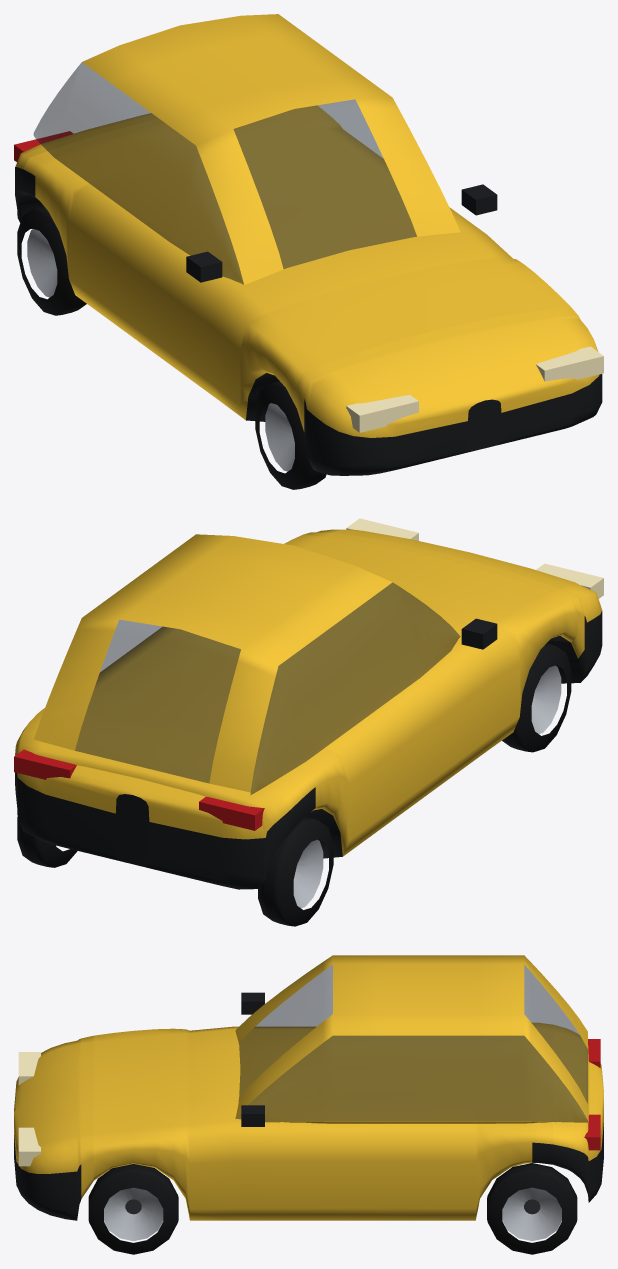
Rendered from mobile.glb.
3 views of the same model, one above another, from view 1: azimuth 30°, elevation 25°; view 2: azimuth 150°, elevation 25°; view 3: azimuth 270°, elevation 25° (orthographic). The views are drawn at different scales.
Visible parts, largest first — view 1: body, glass, tyre_rr, tyre_fr, light_head_r, light_head_l, rim_rr, rim_fr; view 2: body, glass, tyre_rr, tyre_fr, rim_fr, rim_rr, light_brake_r, tyre_rl, light_brake_l, light_head_r, light_head_l; view 3: body, glass, tyre_rl, tyre_fl, rim_fl, rim_rl, light_head_l, light_head_r, light_brake_l.
Boxes of the visible parts, left/top/right/bottom form: body: left=15, top=14, right=602, bottom=475; glass: left=33, top=62, right=416, bottom=284; tyre_rr: left=17, top=206, right=86, bottom=315; tyre_fr: left=255, top=380, right=326, bottom=489; light_head_r: left=346, top=394, right=418, bottom=432; light_head_l: left=536, top=346, right=603, bottom=381; rim_rr: left=27, top=229, right=57, bottom=297; rim_fr: left=265, top=403, right=294, bottom=471; body: left=15, top=529, right=602, bottom=889; glass: left=75, top=582, right=460, bottom=794; tyre_rr: left=258, top=816, right=333, bottom=926; tyre_fr: left=502, top=643, right=571, bottom=752; rim_fr: left=531, top=665, right=561, bottom=733; rim_rr: left=293, top=839, right=323, bottom=908; light_brake_r: left=199, top=796, right=264, bottom=830; tyre_rl: left=17, top=817, right=77, bottom=867; light_brake_l: left=14, top=749, right=76, bottom=779; light_head_r: left=536, top=563, right=603, bottom=598; light_head_l: left=346, top=518, right=418, bottom=540; body: left=14, top=955, right=603, bottom=1220; glass: left=236, top=964, right=587, bottom=1122; tyre_rl: left=487, top=1163, right=577, bottom=1254; tyre_fl: left=88, top=1164, right=178, bottom=1254; rim_fl: left=104, top=1187, right=163, bottom=1241; rim_rl: left=502, top=1187, right=561, bottom=1241; light_head_l: left=18, top=1127, right=40, bottom=1166; light_head_r: left=18, top=1052, right=40, bottom=1085; light_brake_l: left=584, top=1114, right=600, bottom=1150.
Size of what is drawn, in the model's own units: 1.8 by 1.5 by 3.7.
